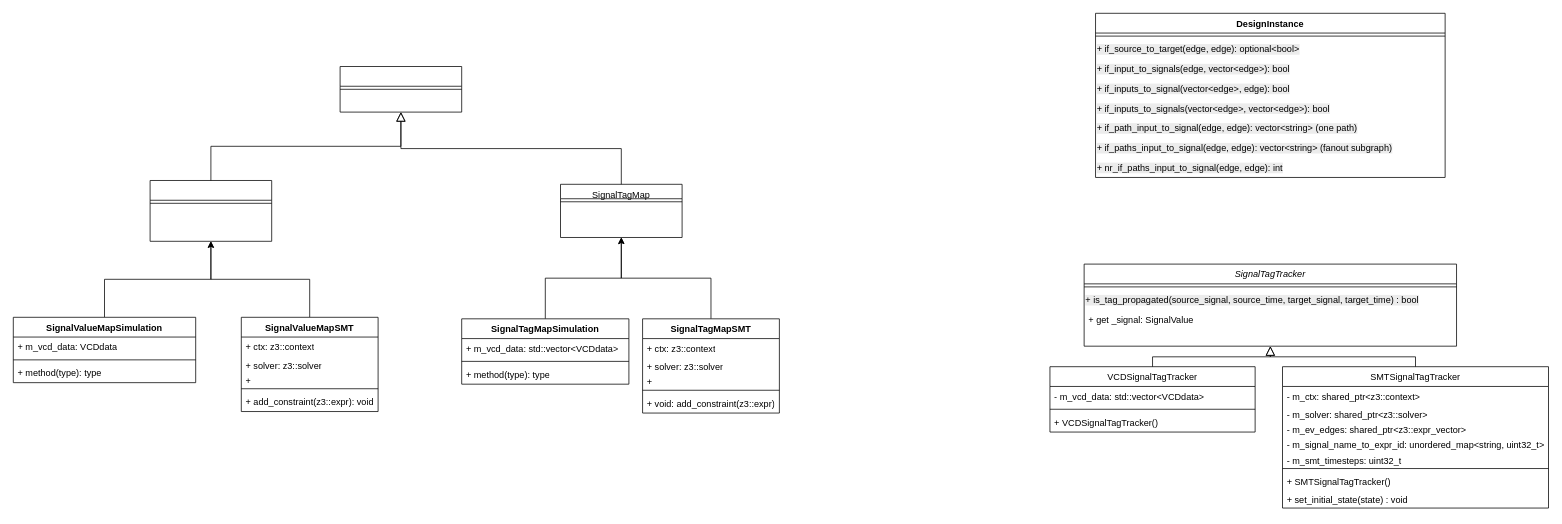
This 1562x524 diagram has some shape labels left out. The shapes that lost their labels are listed below. From the top down, each one's centre as x and y in pixels, then its label:
pixel 400 89: SignalMap
pixel 210 210: SignalValueMap
